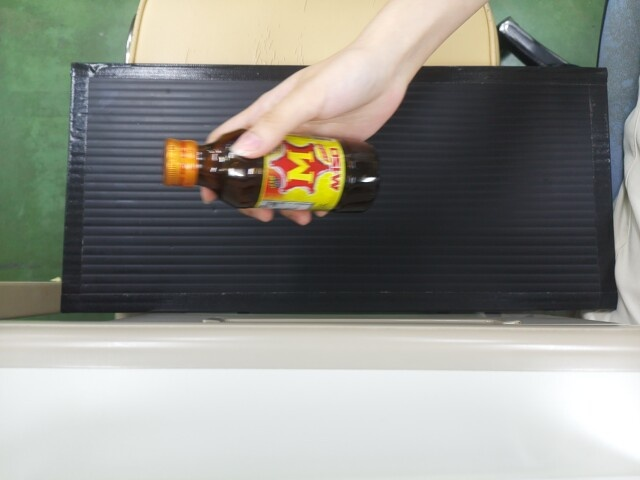glass_bottle: (158, 128, 380, 209)
